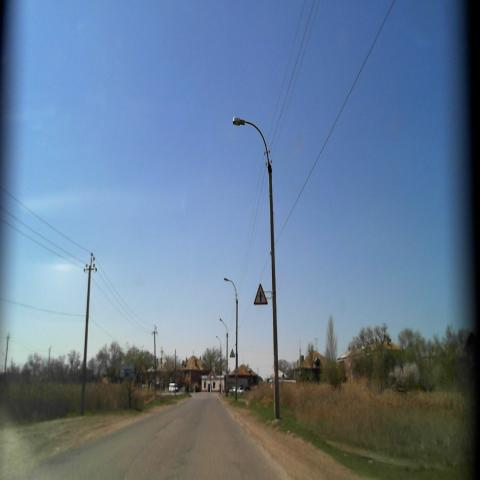2_3: (253, 283, 268, 305)
